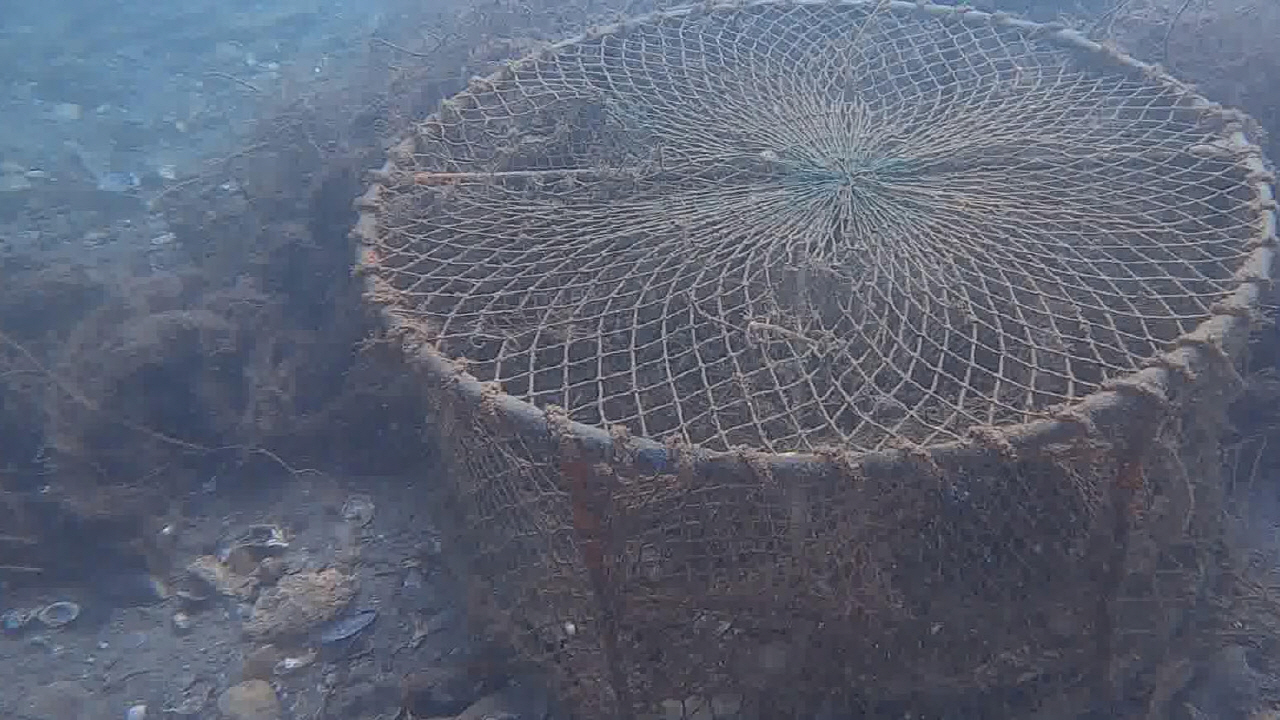circular fish trap: (347, 0, 1280, 720)
